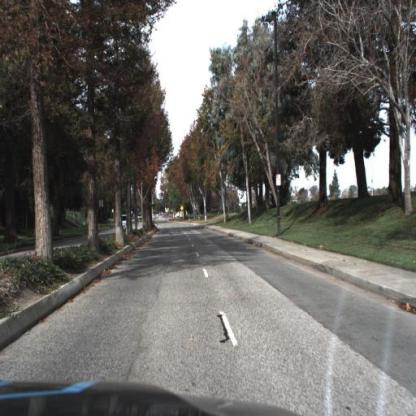car: (119, 212, 131, 234), (120, 215, 130, 231)
